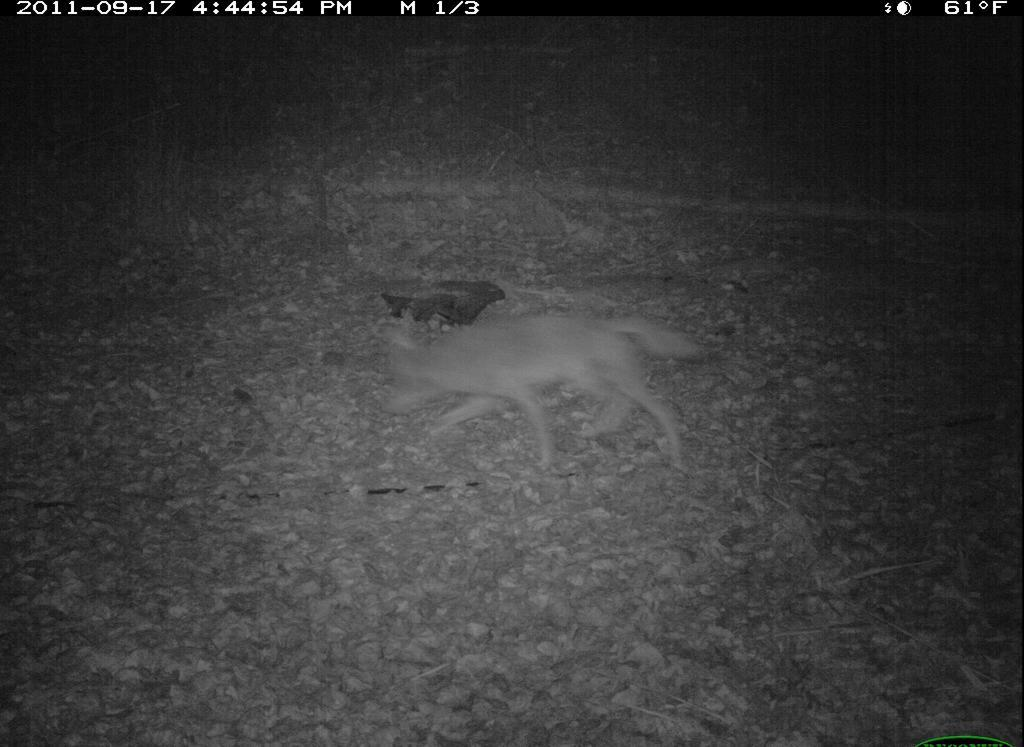coyote: (372, 306, 729, 489)
